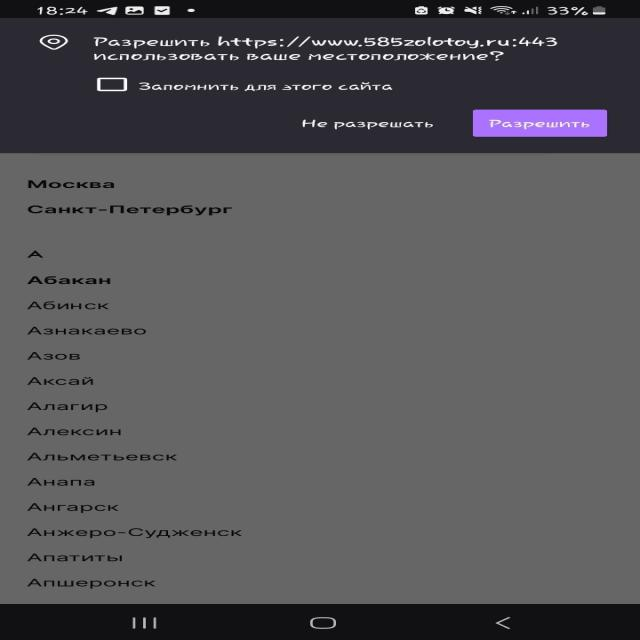button: (284, 111, 449, 136), (473, 109, 607, 138)
system: (0, 18, 640, 152)
